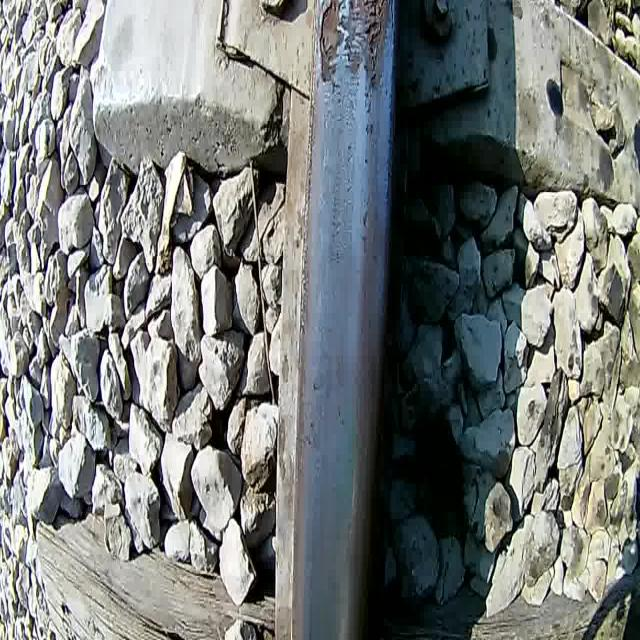Spallings: (316, 0, 391, 102)
